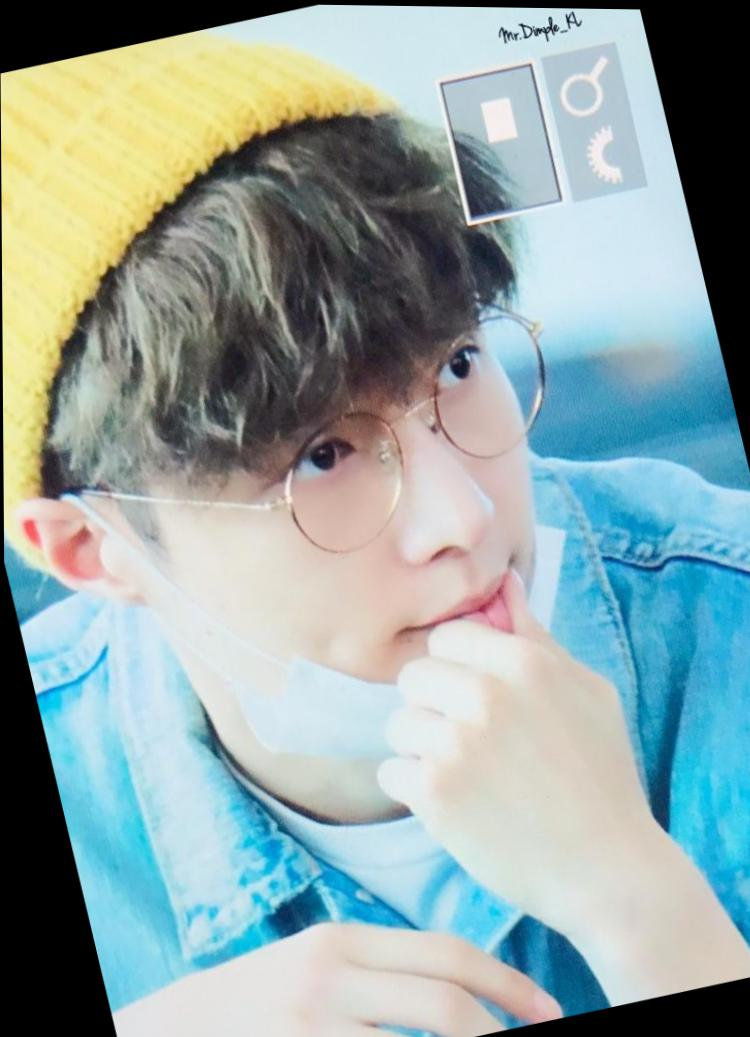WRONG: (106, 284, 593, 800)
